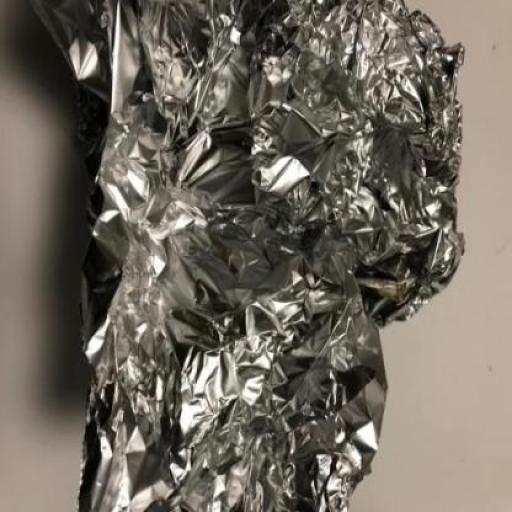metal: (27, 0, 467, 511)
